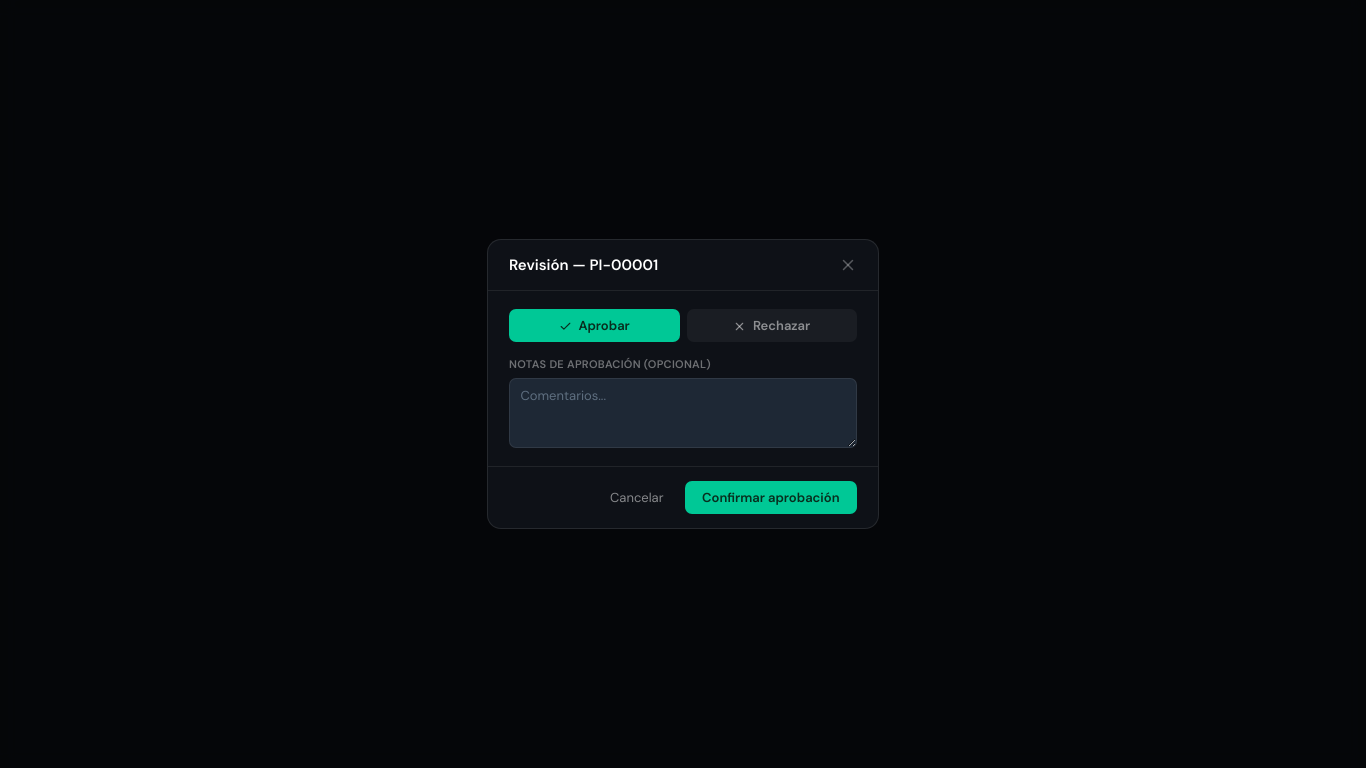
Test case: ModalAprobacion (Pedidos Internos) › al cambiar a Rechazar, exige motivo antes de confirmar
Click the button "Rechazar". click: (772, 326)
box: [686,309,857,342]
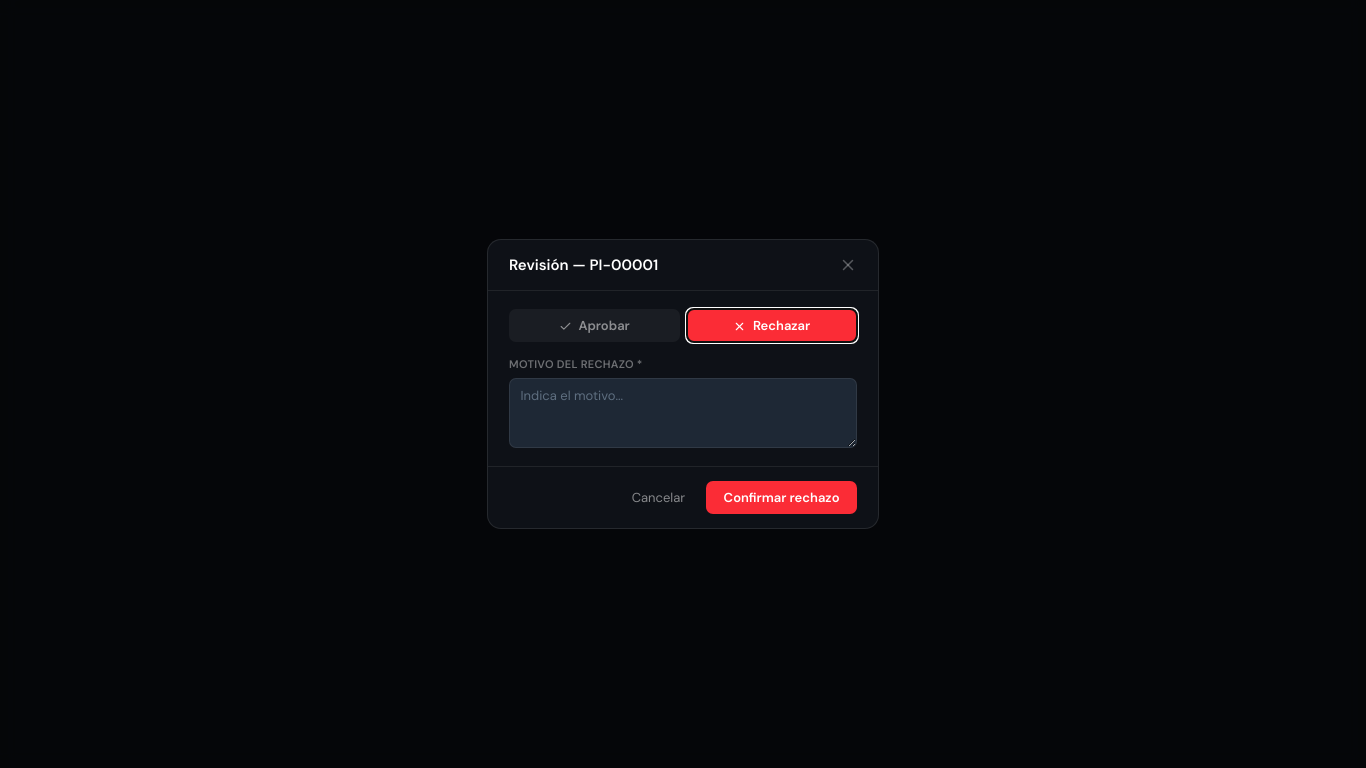
Click the button "Confirmar rechazo". click: (782, 497)
box: [706,481,857,514]
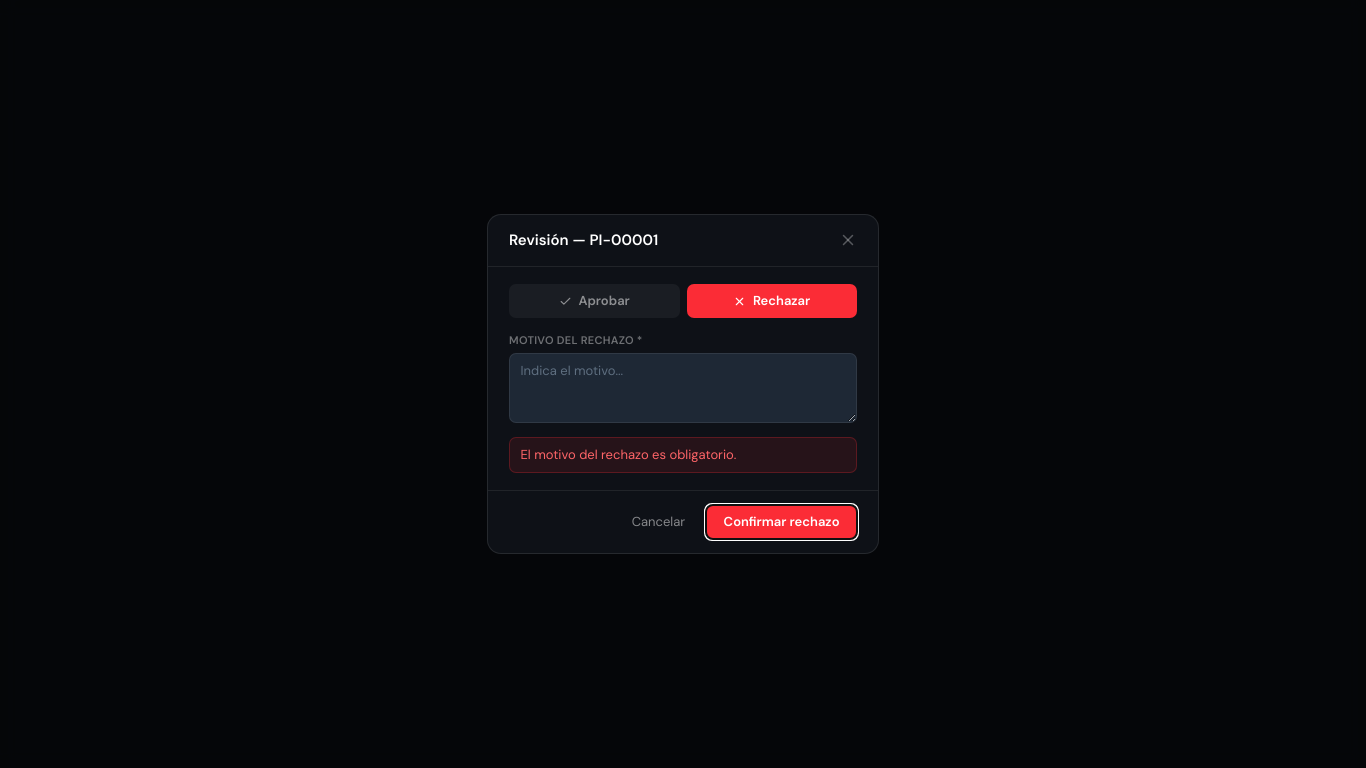
Now the text "El motivo del rechazo es obligatorio." is shown, box [509,437,857,473]
